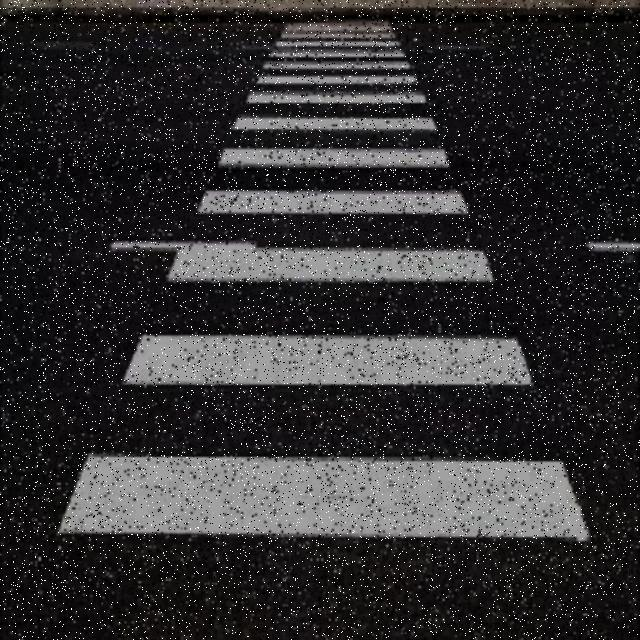crosswalk: (55, 17, 591, 545)
